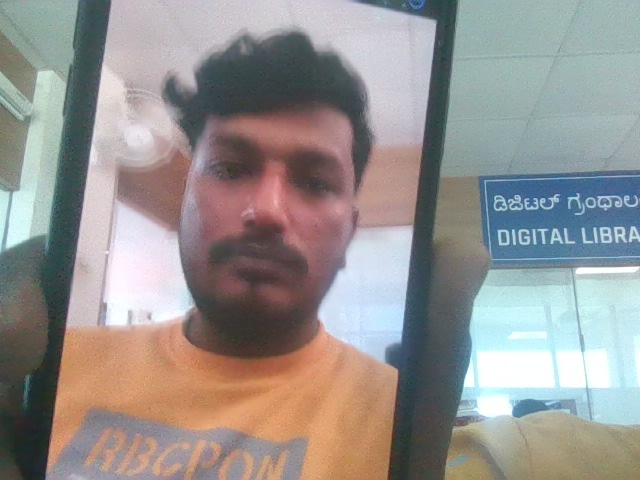fake: (148, 9, 389, 350)
